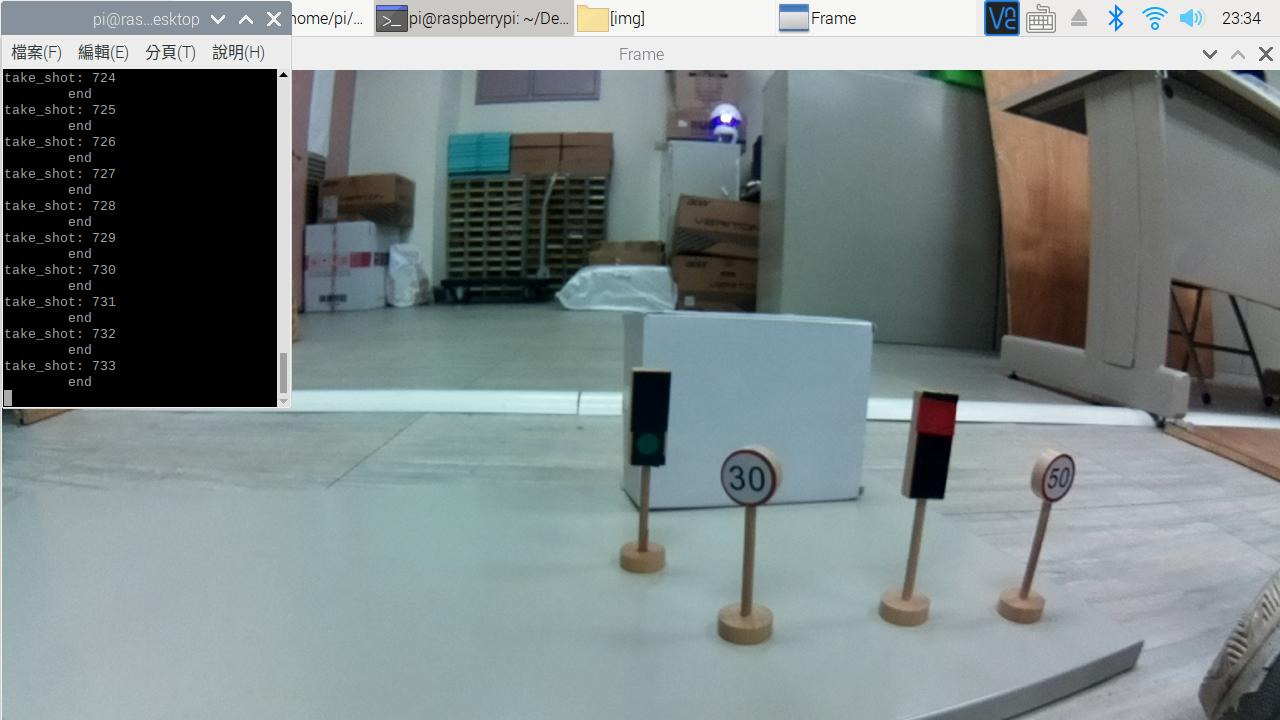Green: (605, 355, 679, 478)
Red: (896, 386, 966, 521)
Speed30: (703, 448, 790, 529)
Speed50: (1038, 446, 1079, 507)
